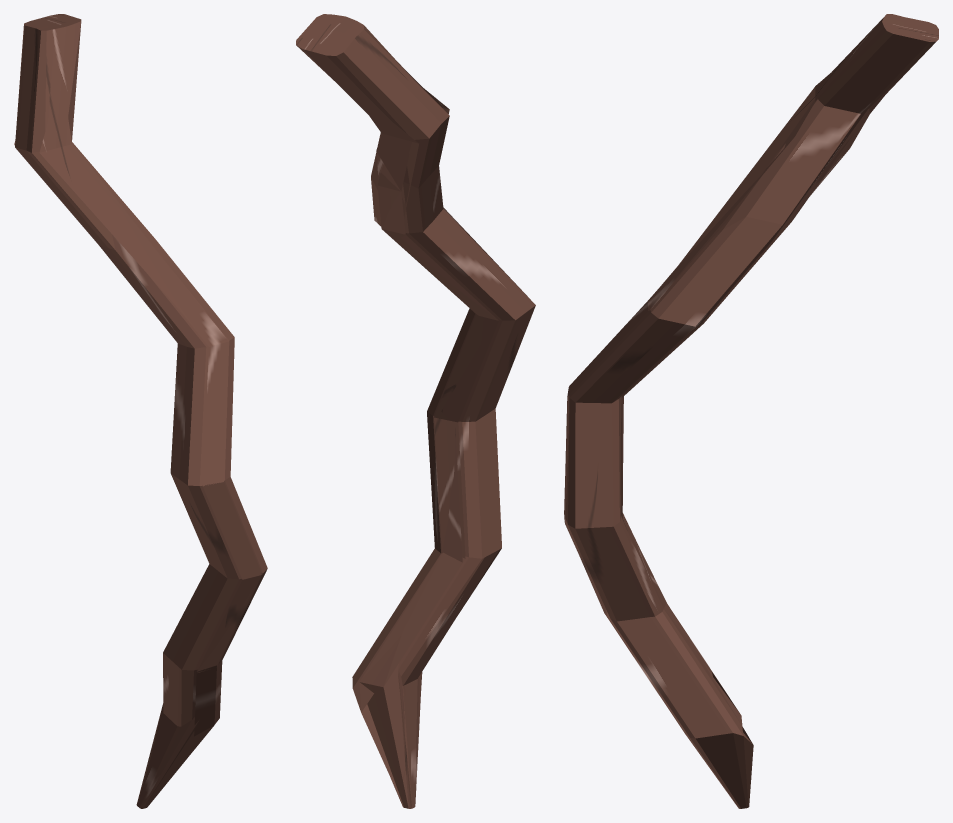
Rendered from Rootsick.fbx.
3 views of the same model, side by side, from view 1: azimuth 30°, elevation 25°; view 2: azimuth 150°, elevation 25°; view 3: azimuth 270°, elevation 25° (orthographic). The views are drawn at different scales.
Visible parts, largest first — view 1: Cube.002; view 2: Cube.002; view 3: Cube.002.
Boxes of the visible parts, x1,y1,x2,y2 form: Cube.002: (14, 14, 267, 808); Cube.002: (296, 14, 535, 808); Cube.002: (564, 14, 938, 808).
Size of the model in its own units: 264 by 1454 by 633.
Materials: 2 (2 with a texture image).
